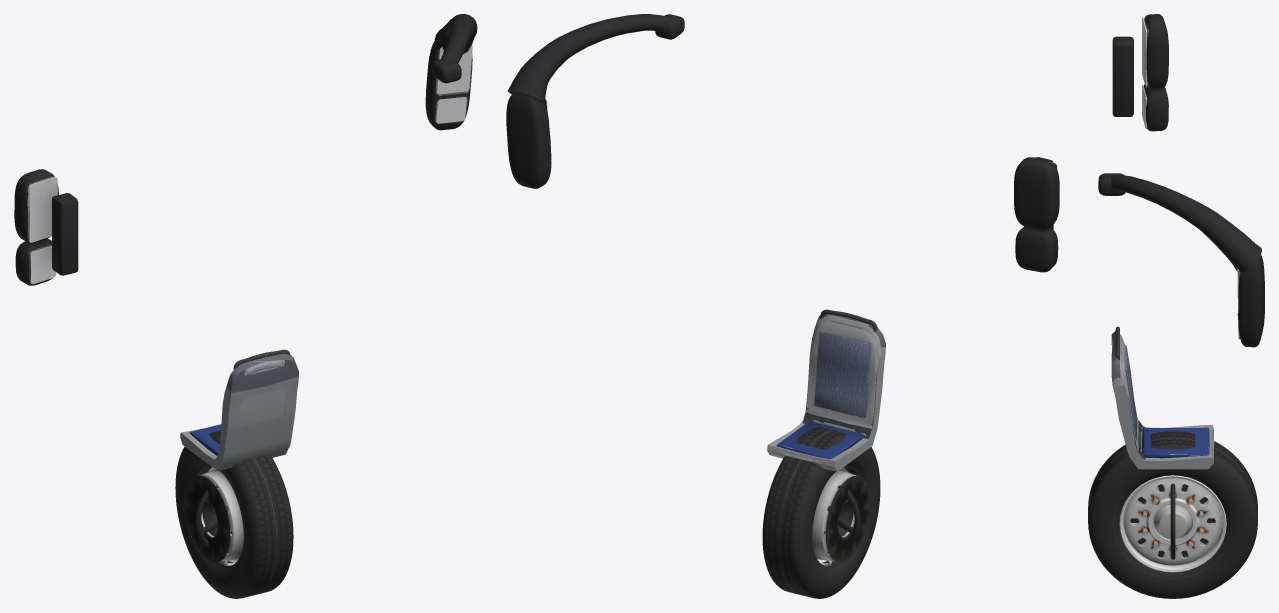
File: kit_bus.glb
3 renders of one model, left to right at view 1: azimuth 30°, elevation 25°; view 2: azimuth 150°, elevation 25°; view 3: azimuth 270°, elevation 25°, orthographic.
Parts seen in each view (by area): view 1: mirrorsMan, tyre, seat_man, wheelSteelRear, seat_yutong, seat_conecto; view 2: mirrorsMan, tyre, seat_conecto, wheelSteelRear, seat_yutong, seat_man; view 3: tyre, mirrorsMan, wheelAlu, seat_conecto, seat_yutong, seat_man, steeringWheel.
Part boxes in pixels (x1,y1,x2,y2): mirrorsMan: (14, 14, 477, 285); tyre: (175, 430, 293, 598); seat_man: (181, 353, 298, 470); wheelSteelRear: (185, 469, 243, 562); seat_yutong: (180, 360, 285, 470); seat_conecto: (189, 349, 290, 455); mirrorsMan: (506, 14, 1059, 272); tyre: (762, 427, 880, 598); seat_conecto: (769, 309, 877, 471); wheelSteelRear: (812, 469, 870, 562); seat_yutong: (767, 315, 885, 470); seat_man: (767, 314, 885, 471); tyre: (1088, 431, 1257, 598); mirrorsMan: (1098, 14, 1264, 347); wheelAlu: (1119, 475, 1226, 572); seat_conecto: (1115, 326, 1209, 469); seat_yutong: (1113, 334, 1213, 468); seat_man: (1111, 331, 1212, 469); steeringWheel: (1170, 483, 1175, 559).
Bounding box in the file's own units: 3.25 × 3.18 × 0.9947.
Materials: 1 (1 with a texture image).
